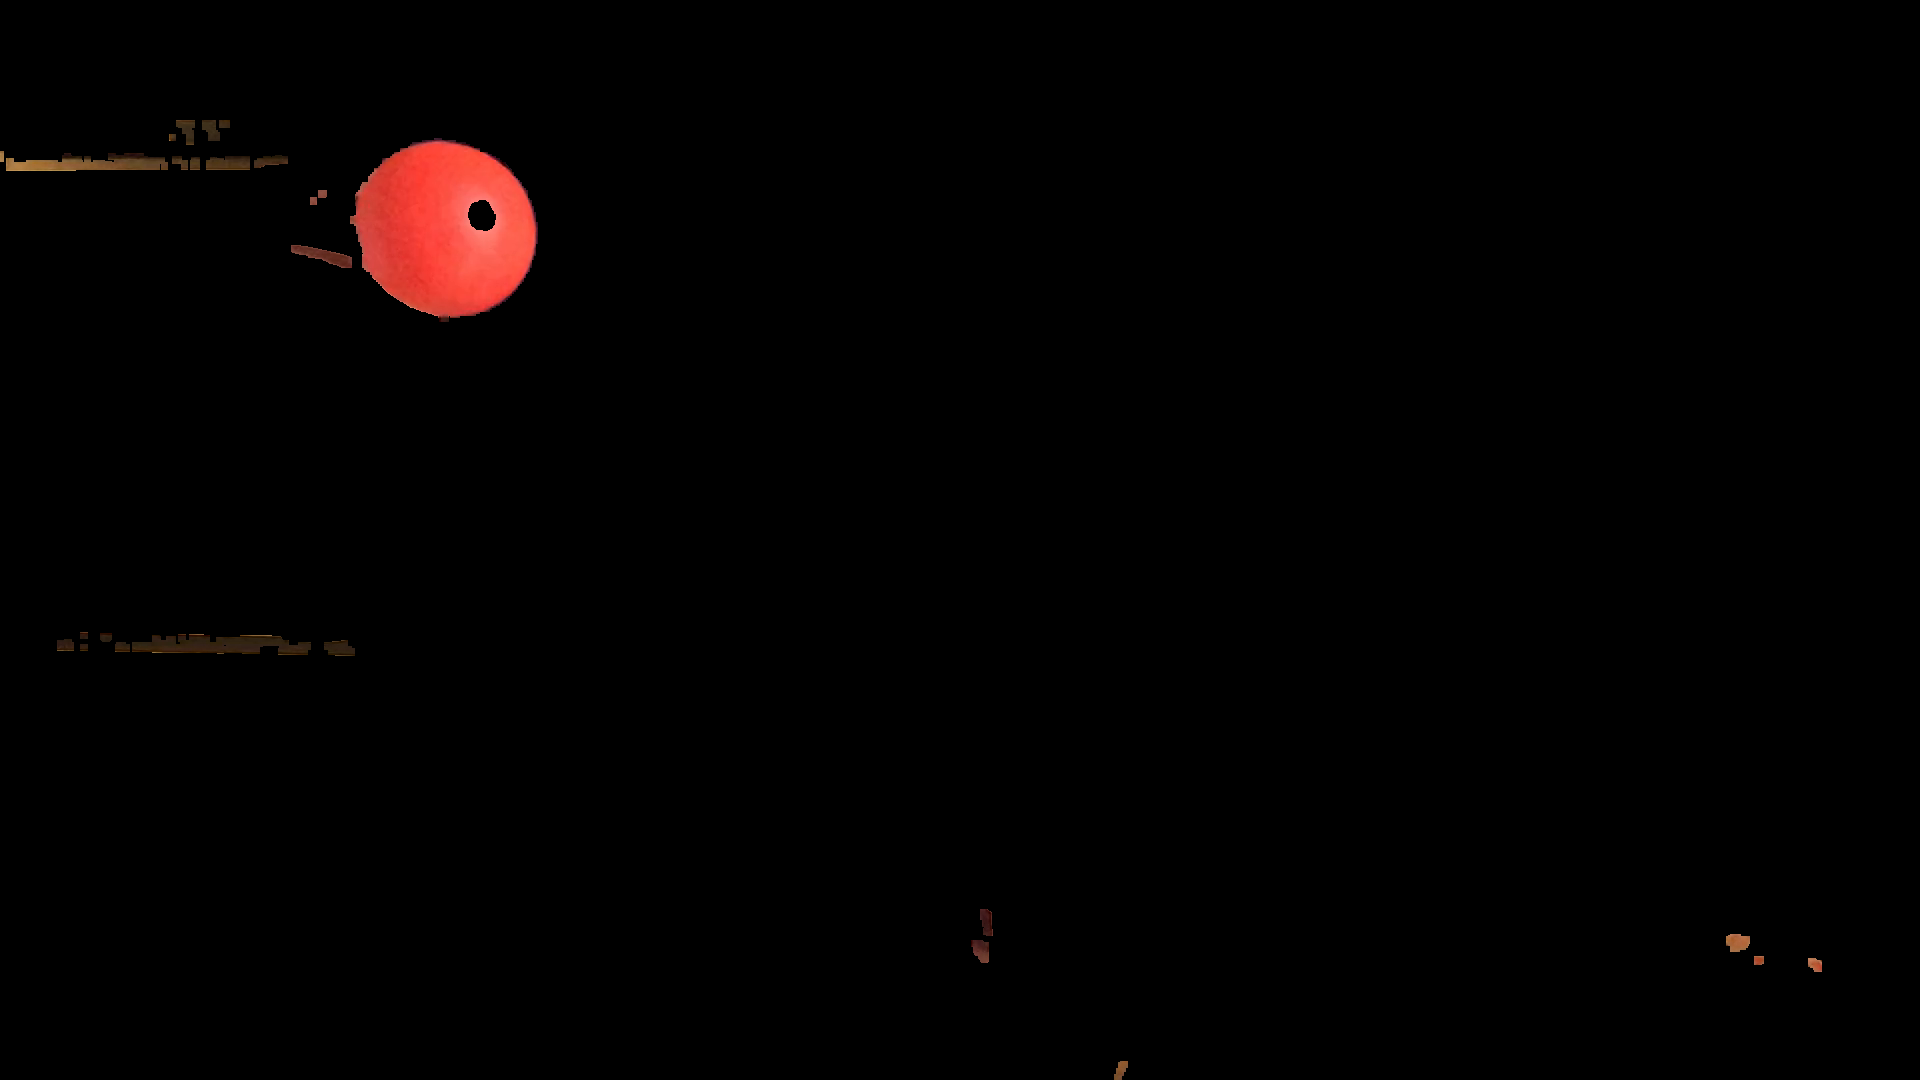Ball: (357, 140, 535, 320)
